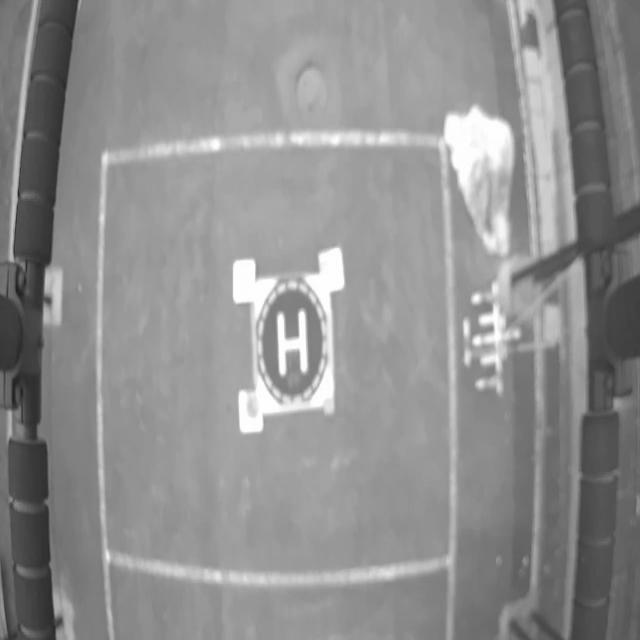Helipad: (276, 308, 309, 378)
